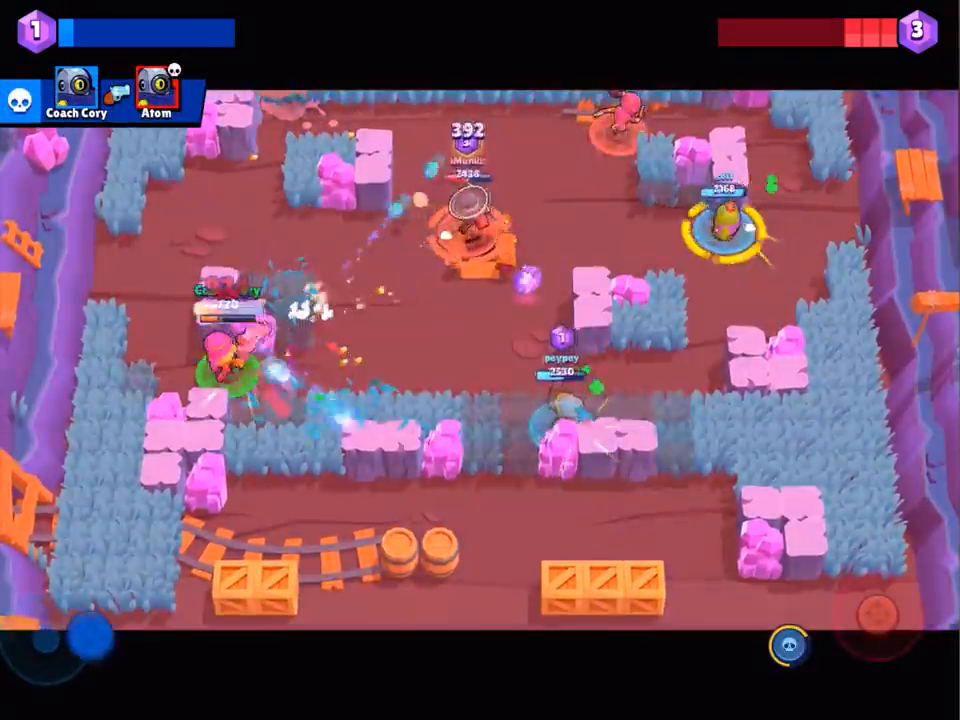move_stick: (60, 604, 118, 668)
red: (424, 159, 519, 265)
